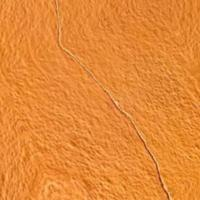crack: (61, 30, 175, 199)
